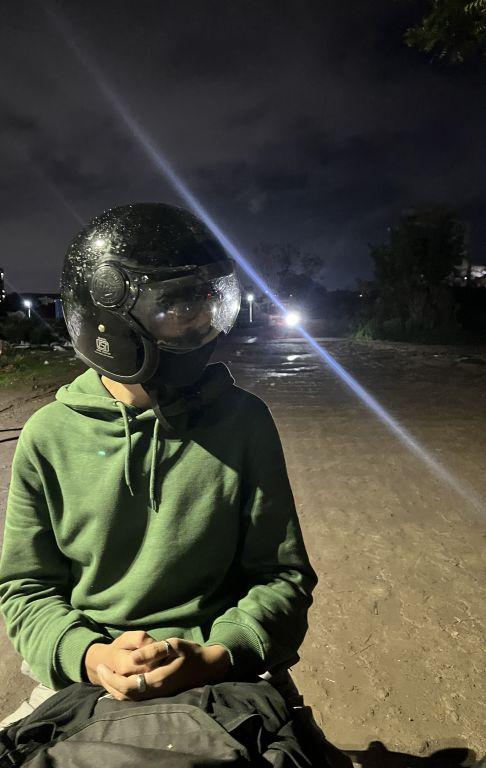helmet: (54, 194, 247, 397)
